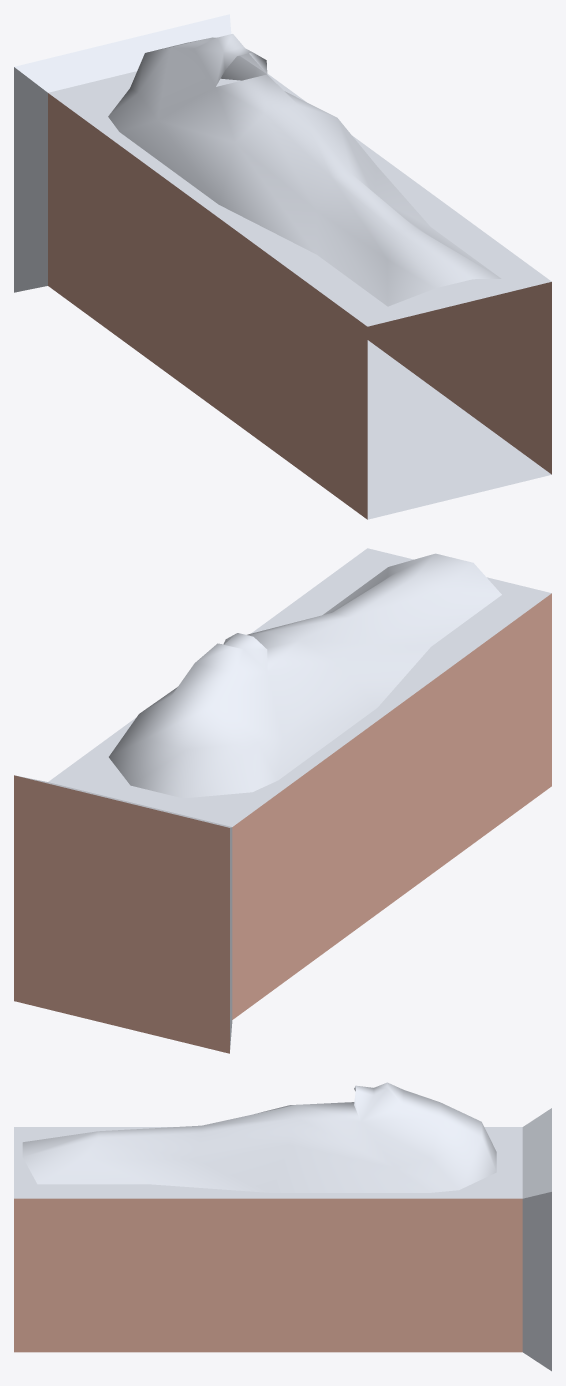
3 views of the same model, one above another, from view 1: azimuth 30°, elevation 25°; view 2: azimuth 150°, elevation 25°; view 3: azimuth 270°, elevation 25° (orthographic). The views are drawn at different scales.
Visible parts, largest first — view 1: Object04; view 2: Object04; view 3: Object04.
Boxes of the visible parts, x1,y1,x2,y2 form: Object04: [14, 14, 551, 519]; Object04: [14, 548, 551, 1053]; Object04: [14, 1082, 551, 1371].
Bounding box in the file's own units: 11700 × 15875 × 31720.
